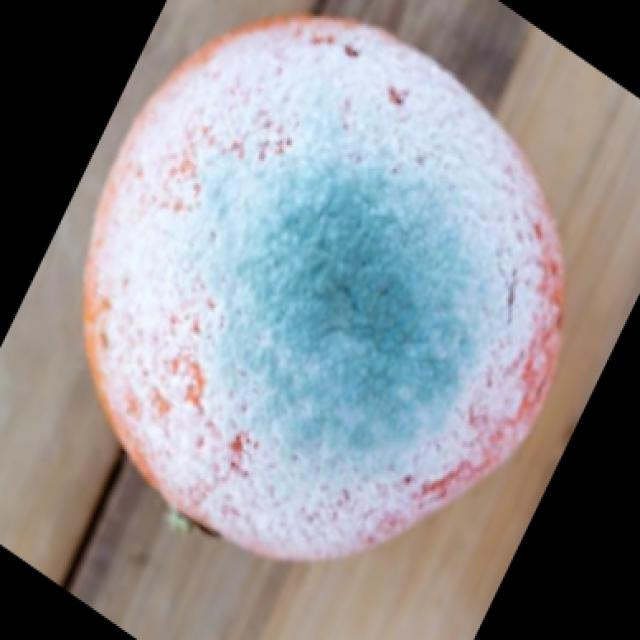sangat_busuk: (81, 12, 567, 572)
